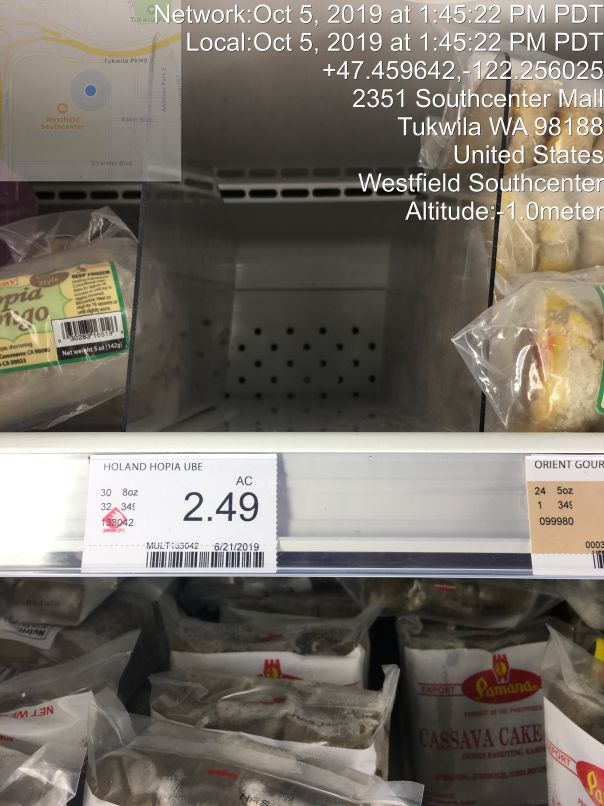Label: (81, 438, 286, 593)
Location: (347, 83, 604, 194)
Time: (143, 1, 604, 60)
Void: (192, 138, 446, 423)
